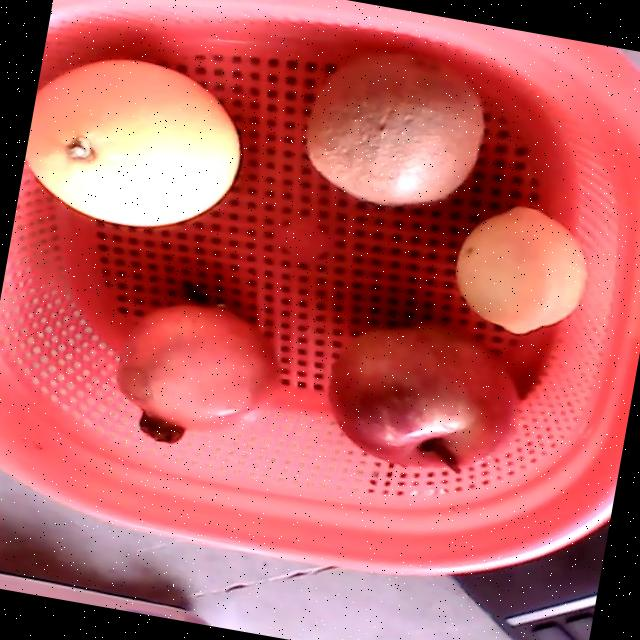apple: (325, 321, 520, 471)
kiwi: (303, 52, 485, 205)
lemon: (455, 206, 584, 333)
orange: (26, 57, 239, 226)
pomegranate: (115, 302, 280, 445)
